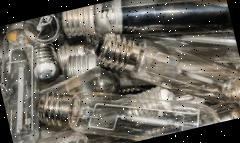lightbulb: (0, 0, 240, 143), (32, 47, 240, 143), (90, 5, 240, 138), (59, 0, 232, 63)
